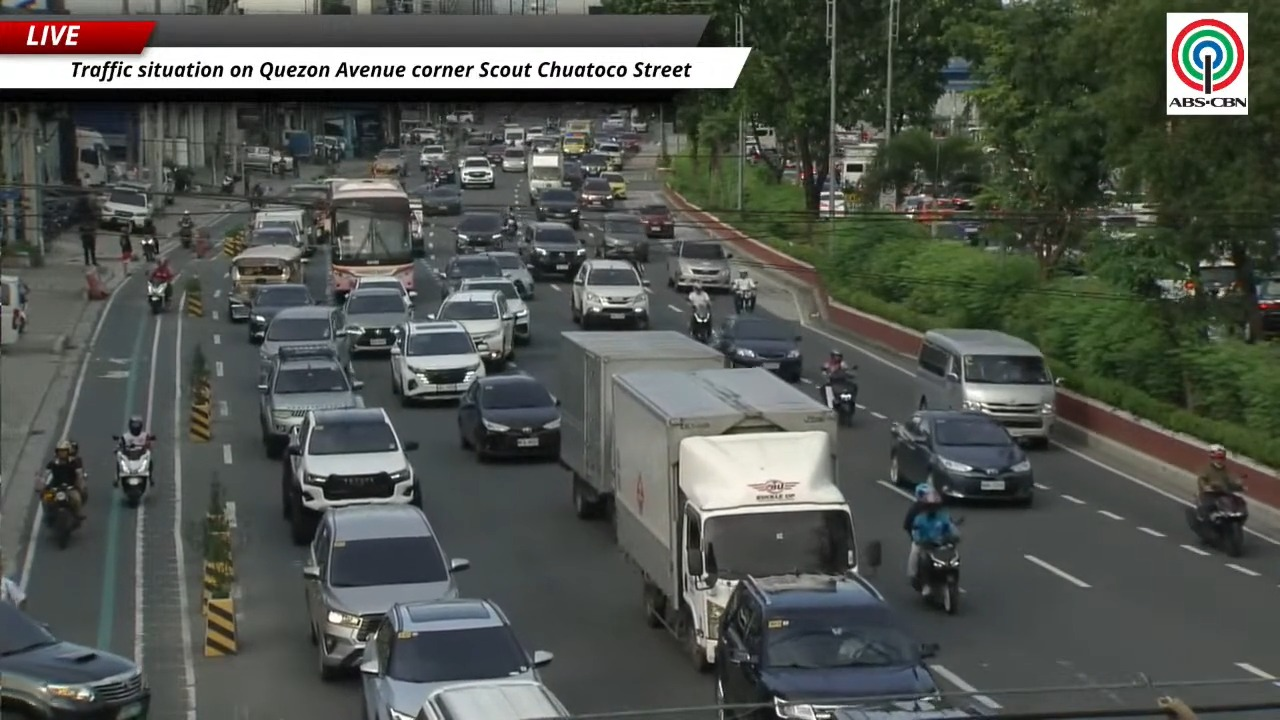bus: (328, 178, 415, 300), (75, 127, 109, 186)
car: (714, 574, 938, 718), (303, 504, 469, 678), (360, 599, 552, 717), (281, 408, 421, 545), (0, 600, 150, 719), (889, 410, 1033, 505), (258, 346, 362, 458), (457, 374, 560, 461), (391, 321, 485, 404), (259, 305, 349, 381), (430, 290, 514, 368), (411, 679, 570, 719), (712, 315, 802, 382), (571, 259, 649, 328), (460, 277, 531, 344), (342, 286, 412, 352), (247, 283, 314, 342), (520, 222, 586, 277), (666, 240, 731, 291), (839, 698, 992, 719), (440, 254, 503, 299), (99, 183, 154, 232), (600, 212, 649, 262), (454, 211, 510, 253), (487, 251, 535, 299), (353, 276, 416, 306), (535, 188, 580, 229), (1256, 276, 1279, 339), (418, 185, 463, 215), (246, 224, 302, 247), (639, 204, 673, 238), (459, 156, 495, 188), (579, 177, 614, 209), (370, 148, 407, 176), (426, 161, 460, 191), (594, 141, 624, 170), (577, 152, 609, 177), (601, 172, 628, 200), (562, 160, 585, 191), (419, 144, 447, 169), (486, 138, 508, 168), (501, 148, 526, 172), (463, 134, 490, 156), (616, 132, 642, 153), (602, 112, 628, 129), (530, 137, 557, 153), (446, 109, 474, 123), (527, 126, 544, 141), (631, 119, 648, 133)
motorcycle: (1186, 491, 1249, 558), (912, 538, 960, 614), (113, 436, 152, 506), (42, 484, 79, 548), (819, 367, 858, 425), (823, 377, 857, 426), (690, 306, 711, 343), (147, 280, 168, 313), (140, 235, 159, 263), (734, 288, 755, 312), (179, 224, 194, 249), (220, 175, 236, 193)
truck: (610, 368, 857, 670), (559, 330, 723, 519), (527, 152, 562, 205), (838, 143, 878, 189), (283, 129, 313, 162)
